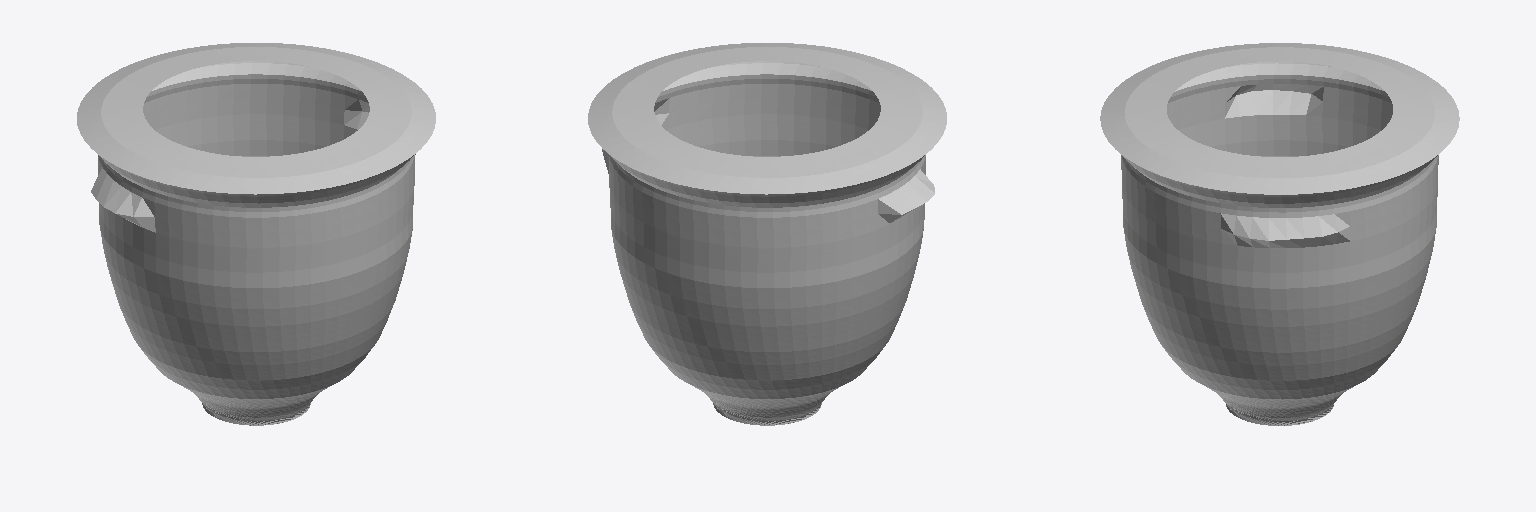
File: vase.obj
3 renders of one model, left to right at view 1: azimuth 30°, elevation 25°; view 2: azimuth 150°, elevation 25°; view 3: azimuth 270°, elevation 25°, orthographic.
Visible parts, largest first — view 1: Cube; view 2: Cube; view 3: Cube.
Part boxes in pixels (left/top/right/bottom): Cube: left=77, top=43, right=435, bottom=425; Cube: left=588, top=43, right=946, bottom=425; Cube: left=1100, top=43, right=1459, bottom=425.
Bounding box in the file's own units: 3.98 × 3.58 × 3.97.